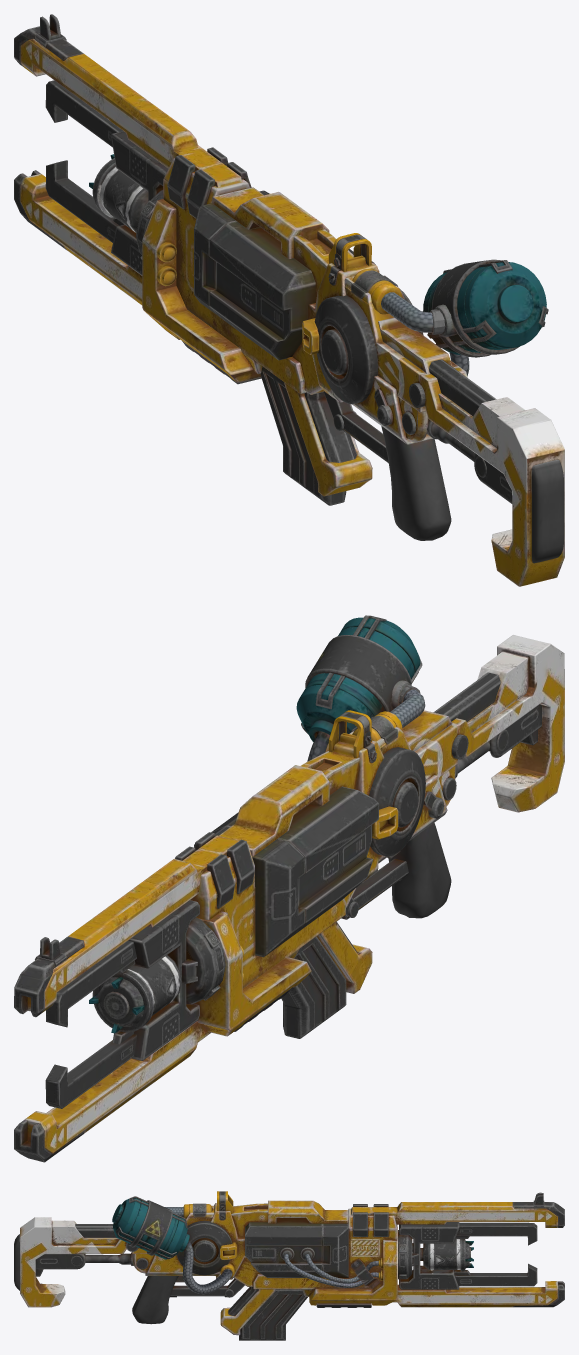
The model's file is herald-rifle.glb.
3 views of the same model, one above another, from view 1: azimuth 30°, elevation 25°; view 2: azimuth 150°, elevation 25°; view 3: azimuth 270°, elevation 25° (orthographic). The views are drawn at different scales.
Visible parts, largest first — view 1: Object_11, Object_8, Object_14; view 2: Object_11, Object_8, Object_14; view 3: Object_11, Object_8, Object_14.
Part boxes in pixels (x1,y1,x2,y2): Object_11: (20, 38, 564, 586); Object_8: (14, 14, 548, 505); Object_14: (45, 80, 168, 275); Object_11: (24, 635, 564, 1153); Object_8: (14, 615, 541, 1162); Object_14: (45, 900, 225, 1108); Object_11: (14, 1200, 557, 1335); Object_8: (35, 1191, 564, 1340); Object_14: (398, 1222, 537, 1289).
Bounding box in the file's own units: 0.1675 × 0.314 × 0.9999.
2 materials, 2 textured.
